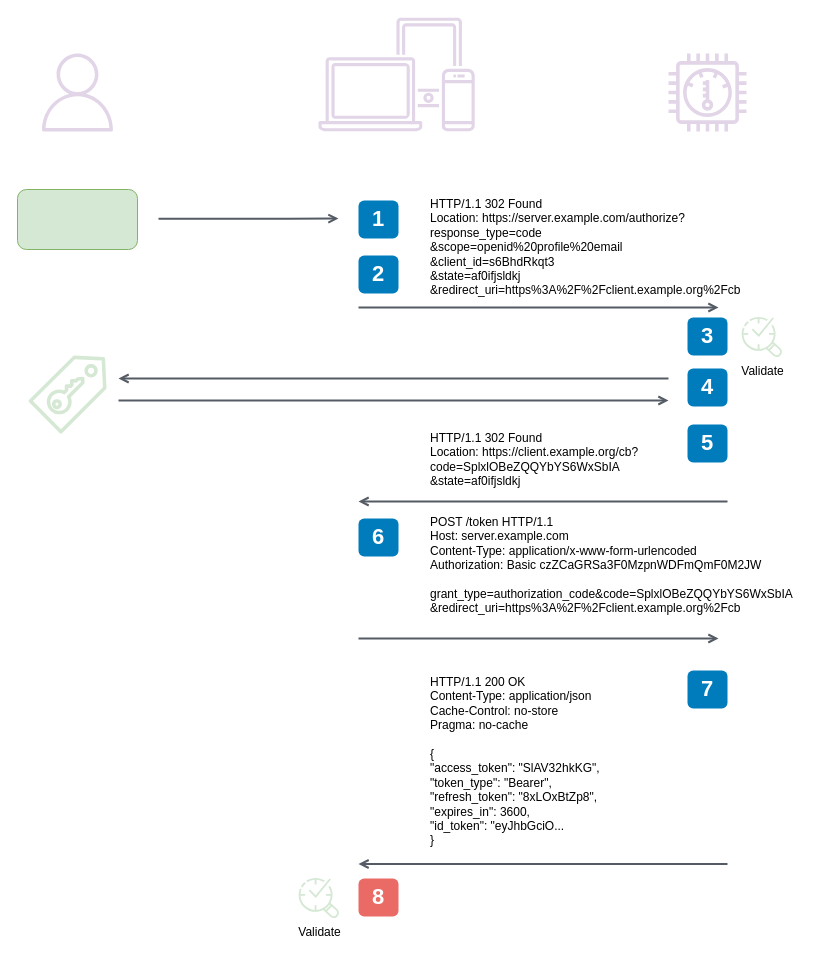
This 836x956 diagram has some shape labels left out. The shapes that lost their labels are listed below. From the top down, each one's centre as x and y in pixels, then its label:
At point (77, 92): "User".
At point (396, 74): "Client (Relying Party)".
At point (707, 92): "Authorization Server".
At point (77, 219): "LOGIN".
At point (67, 394): "Consent".
